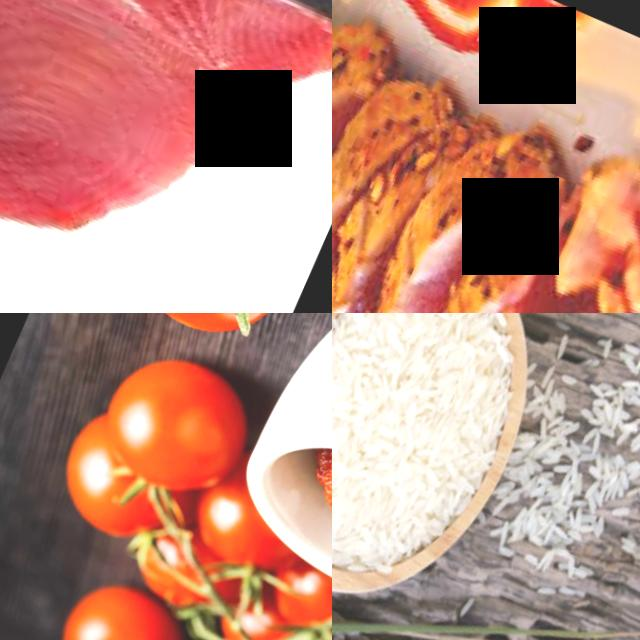tomato: (81, 333, 269, 518), (36, 561, 203, 640), (101, 313, 329, 368)
tuna: (0, 0, 332, 313)
white rice: (332, 313, 532, 561)
